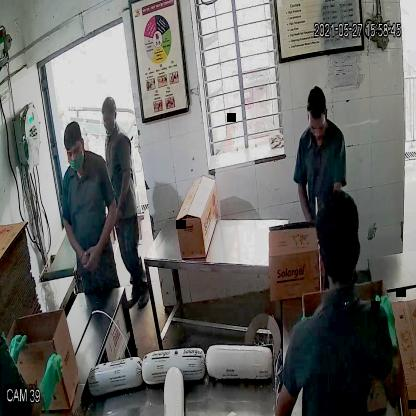no_goggles: (306, 115, 330, 137), (62, 142, 86, 162)
